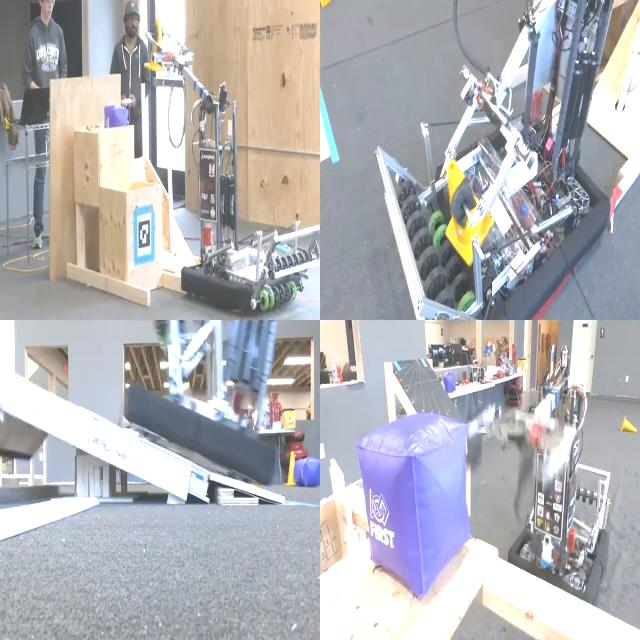frc_cone: (435, 166, 487, 278), (142, 18, 165, 71), (616, 408, 640, 439), (281, 453, 296, 487)
frc_cube: (357, 414, 470, 596), (102, 104, 130, 134), (295, 460, 320, 491), (439, 373, 458, 392)
